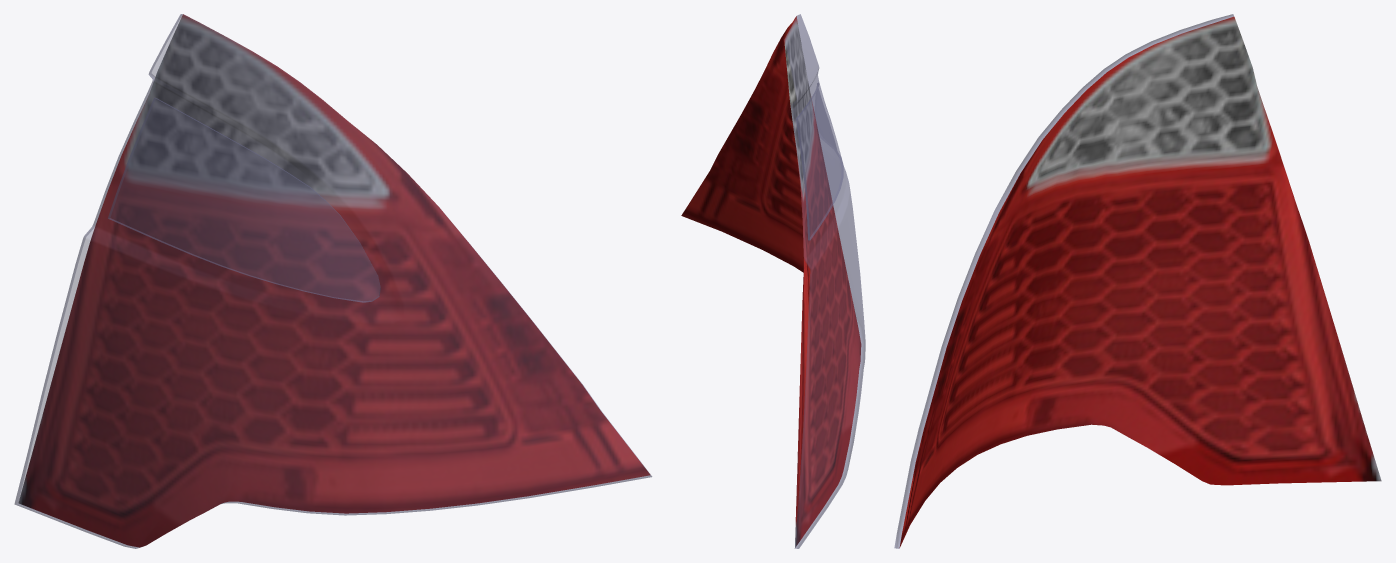
The picture shows the model from 3 angles, left to right: view 1: azimuth 30°, elevation 25°; view 2: azimuth 150°, elevation 25°; view 3: azimuth 270°, elevation 25°; orthographic projection. The views are drawn at different scales.
Parts seen in each view (by area): view 1: P345_541C_R_2_DTaSI_P345_541C_R, P345_541C_R_P345_541C_R_1_N; view 2: P345_541C_R_P345_541C_R_1_N, P345_541C_R_2_DTaSI_P345_541C_R; view 3: P345_541C_R_P345_541C_R_1_N, P345_541C_R_2_DTaSI_P345_541C_R.
Boxes of the visible parts, bbox=[...] form: P345_541C_R_2_DTaSI_P345_541C_R: bbox=[14, 14, 651, 548]; P345_541C_R_P345_541C_R_1_N: bbox=[18, 14, 649, 547]; P345_541C_R_P345_541C_R_1_N: bbox=[681, 16, 861, 548]; P345_541C_R_2_DTaSI_P345_541C_R: bbox=[784, 14, 865, 548]; P345_541C_R_P345_541C_R_1_N: bbox=[899, 16, 1381, 547]; P345_541C_R_2_DTaSI_P345_541C_R: bbox=[894, 14, 1233, 548].
Size of the model in its own units: 27.47 by 35.51 by 30.9.
